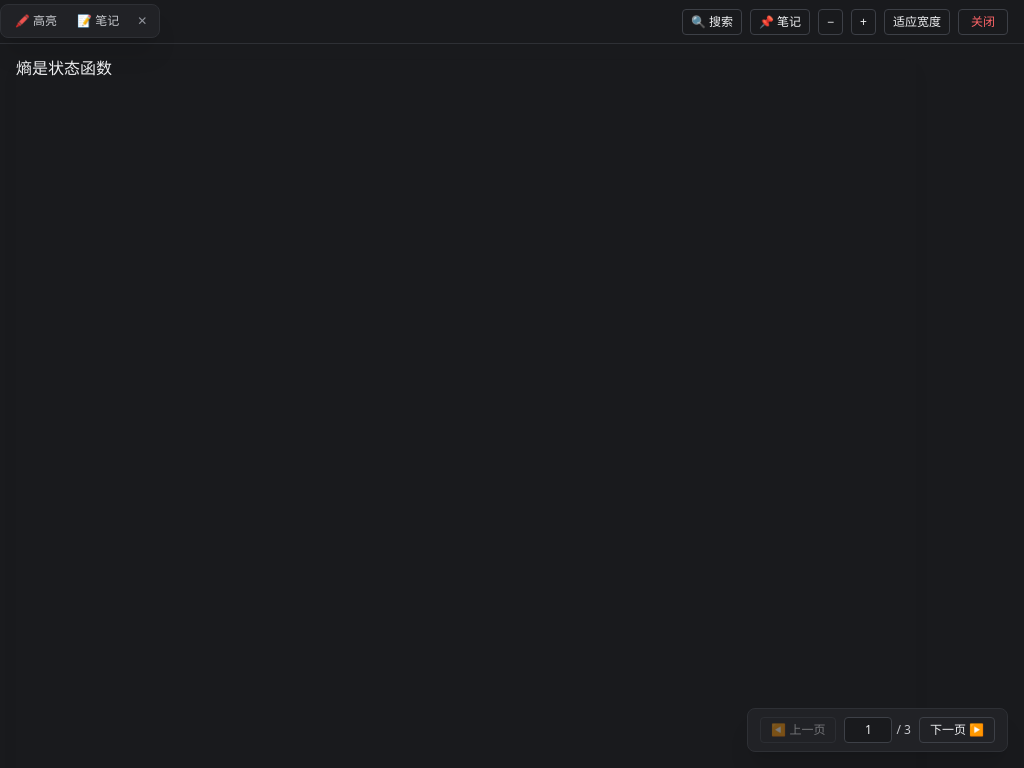
Test: PdfReaderView — notes and selection › truncates the note placeholder for long selections
Step 1. Click the button titled "为这段文字写一条笔记" → (98, 21), box [69,9,127,33]
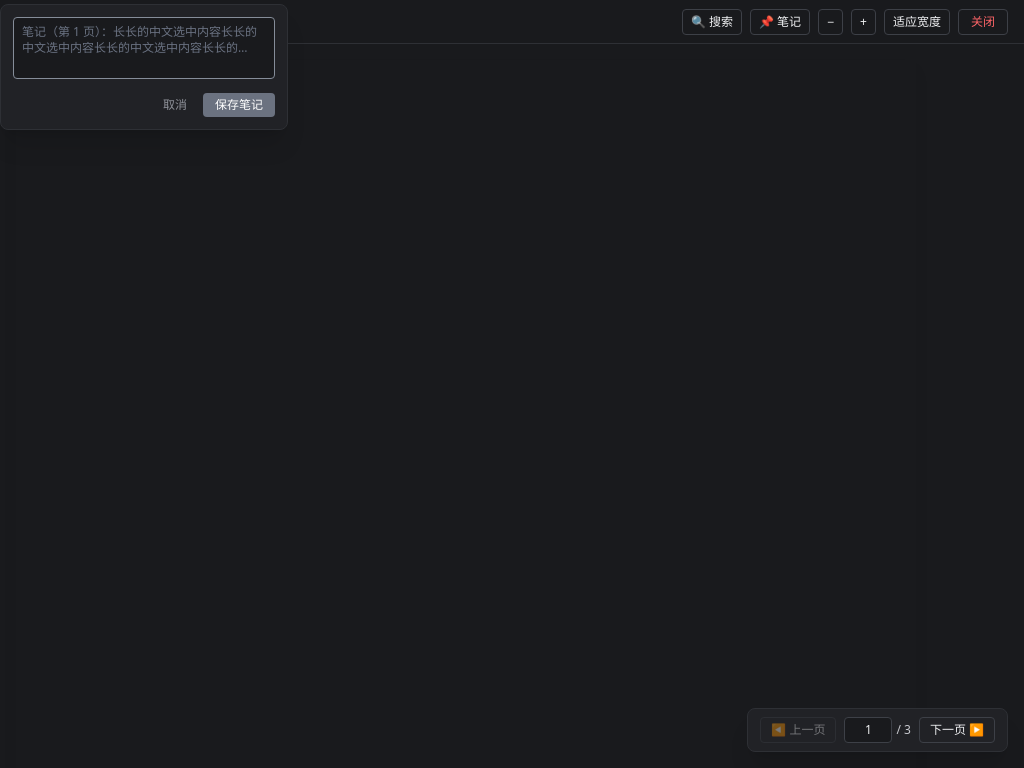
Check: the text box with placeholder "…" is shown, box [13,17,275,79]
